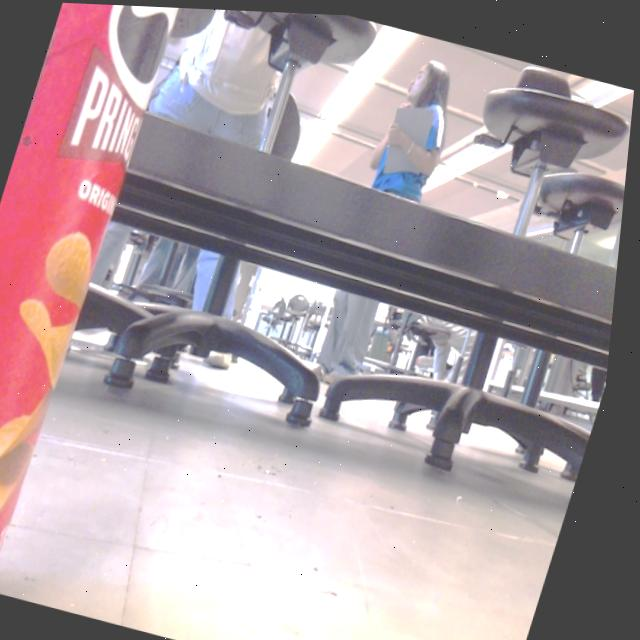redpringles: (0, 0, 242, 610)
